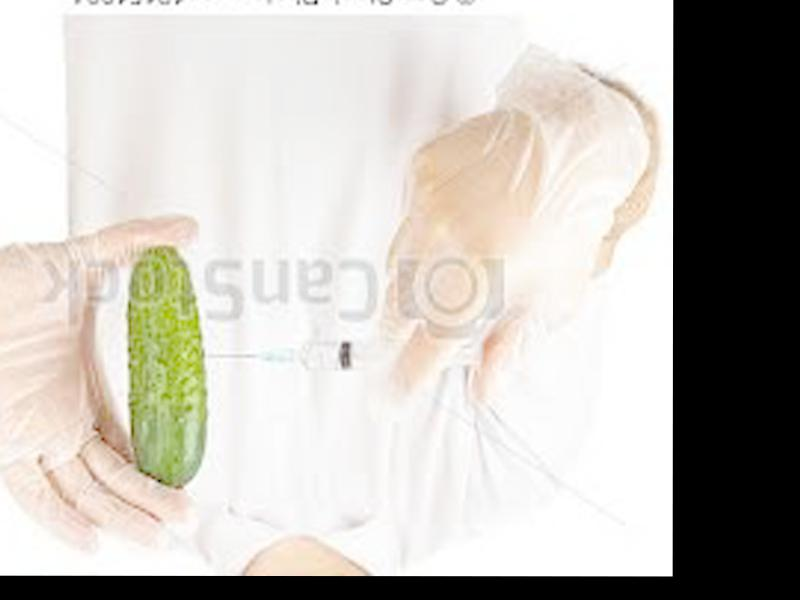Cucumber: (124, 248, 204, 495)
